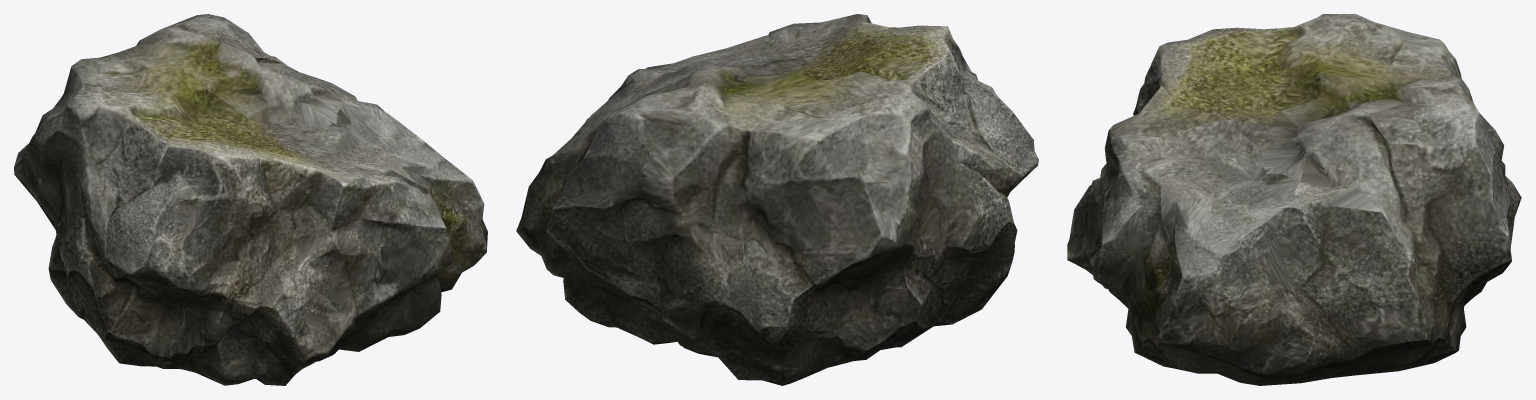
File: boulder.glb
3 views of the same model, side by side, from view 1: azimuth 30°, elevation 25°; view 2: azimuth 150°, elevation 25°; view 3: azimuth 270°, elevation 25° (orthographic). The views are drawn at different scales.
Parts seen in each view (by area): view 1: boulder; view 2: boulder; view 3: boulder.
Part boxes in pixels (x1,y1,x2,y2): boulder: (14,14,487,385); boulder: (516,14,1038,385); boulder: (1067,14,1521,385).
Size of the model in its own units: 0.9796 by 0.5517 by 0.9614.
Materials: 1 (1 with a texture image).
